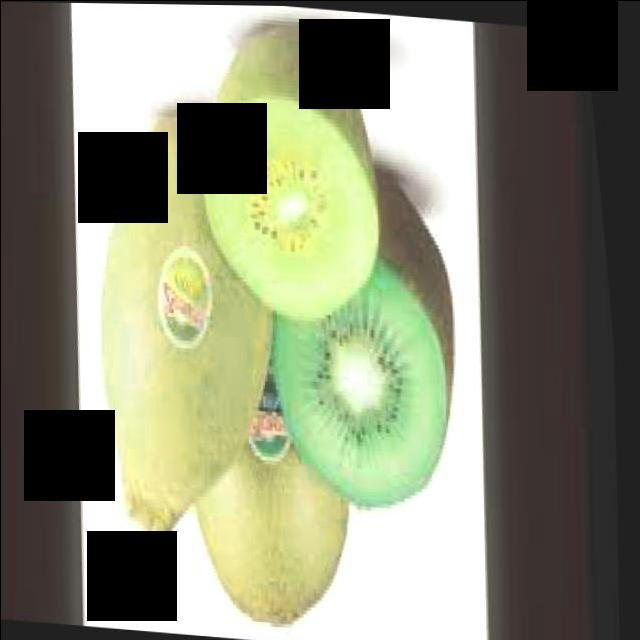kiwi: (77, 111, 311, 560), (185, 368, 374, 630)
